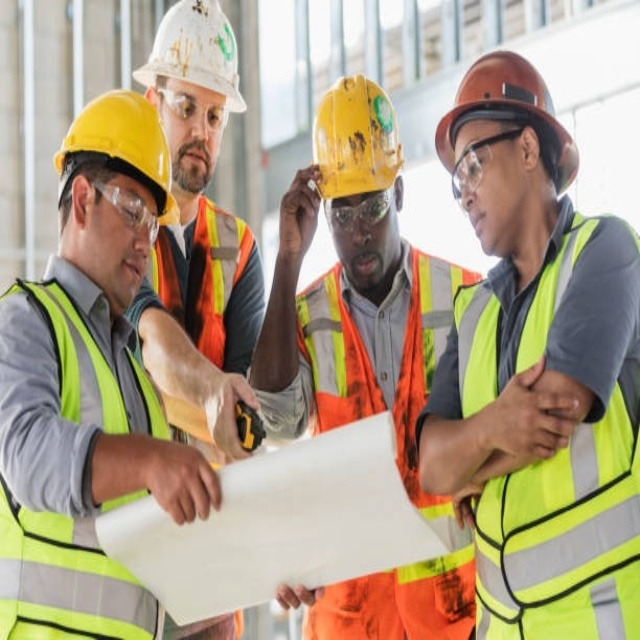Gafas: (85, 178, 160, 248), (453, 128, 521, 205), (325, 182, 396, 240), (156, 85, 229, 131)
Sin_guantes: (483, 351, 584, 473), (139, 435, 224, 526), (208, 372, 265, 464), (275, 163, 324, 258), (275, 579, 318, 612), (451, 491, 483, 532)
Sin_mascara: (467, 206, 503, 256), (176, 146, 214, 186), (115, 256, 144, 304), (349, 246, 383, 285)
